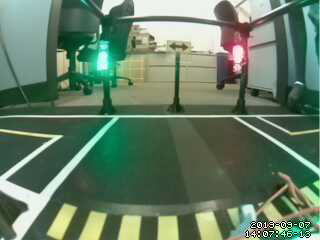Left_Right_sign: (159, 38, 195, 54)
Traffic_light_green: (96, 42, 109, 73)
Traffic_light_red: (232, 43, 243, 72)
